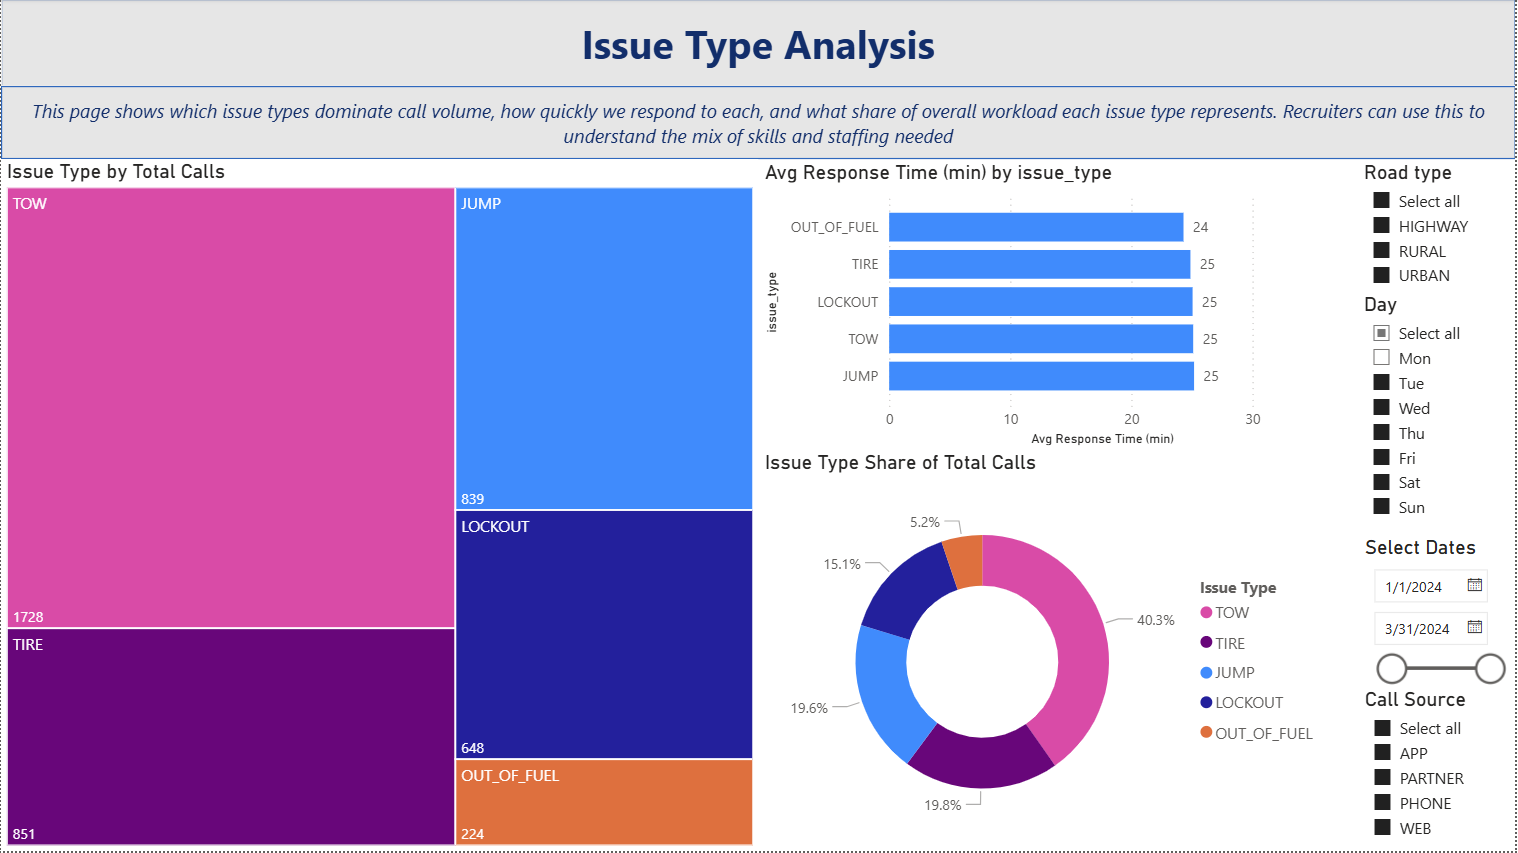

The dashboard page shown, as its layout file describes it:
{"tool":"powerbi","page":{"name":"7) Issue Type","canvas":[1280,720],"ordinal":6},"visuals":[{"type":"shape","box":[0,0,1280,73.9],"z":0},{"type":"shape","box":[0,73.6,1280,61.8],"z":1000},{"type":"treemap","title":"Issue Type by Total Calls","fields":{"Group":["roadside_requests.issue_type"],"Values":["roadside_requests.Total Calls"]},"box":[0,135.4,640.5,585],"z":2000},{"type":"clusteredBarChart","fields":{"Category":["roadside_requests.issue_type"],"Y":["roadside_response_times.Avg Response Time (min)"]},"box":[640.5,136.3,482.4,246.2],"z":3000},{"type":"donutChart","title":"Issue Type Share of Total Calls","fields":{"Category":["roadside_response_times.issue_type"],"Y":["roadside_requests.Total Calls"]},"box":[640.5,381.5,482.4,338.9],"z":4000},{"type":"slicer","title":"Road type","fields":{"Values":["roadside_response_times.road_type"]},"box":[1147.2,135.8,132.8,112.1],"z":5000},{"type":"slicer","title":"Day","fields":{"Values":["roadside_response_times.Day of Week"]},"box":[1147.2,247.9,132.8,205.3],"z":6000},{"type":"slicer","title":"Select Dates","fields":{"Values":["roadside_response_times.request_ts"]},"box":[1147.4,453.3,132.6,128.1],"z":7000},{"type":"slicer","title":"Call Source","fields":{"Values":["roadside_requests.call_source"]},"box":[1147.4,581.4,132.6,139],"z":8000}]}

Visuals, with their boxes in screenshot pixels (x1, y1, x2, y2), scaled from the page's 1280x720 canvas onto the 1518x853 screenshot:
shape: [left=0, top=0, right=1517, bottom=88]
shape: [left=0, top=87, right=1517, bottom=160]
"Issue Type by Total Calls" treemap: [left=0, top=160, right=760, bottom=852]
clusteredBarChart - roadside_requests.issue_type x roadside_response_times.Avg Response Time (min): [left=760, top=161, right=1332, bottom=453]
"Issue Type Share of Total Calls" donutChart: [left=760, top=452, right=1332, bottom=852]
"Road type" slicer: [left=1361, top=161, right=1517, bottom=294]
"Day" slicer: [left=1361, top=294, right=1517, bottom=537]
"Select Dates" slicer: [left=1361, top=537, right=1517, bottom=689]
"Call Source" slicer: [left=1361, top=689, right=1517, bottom=852]
